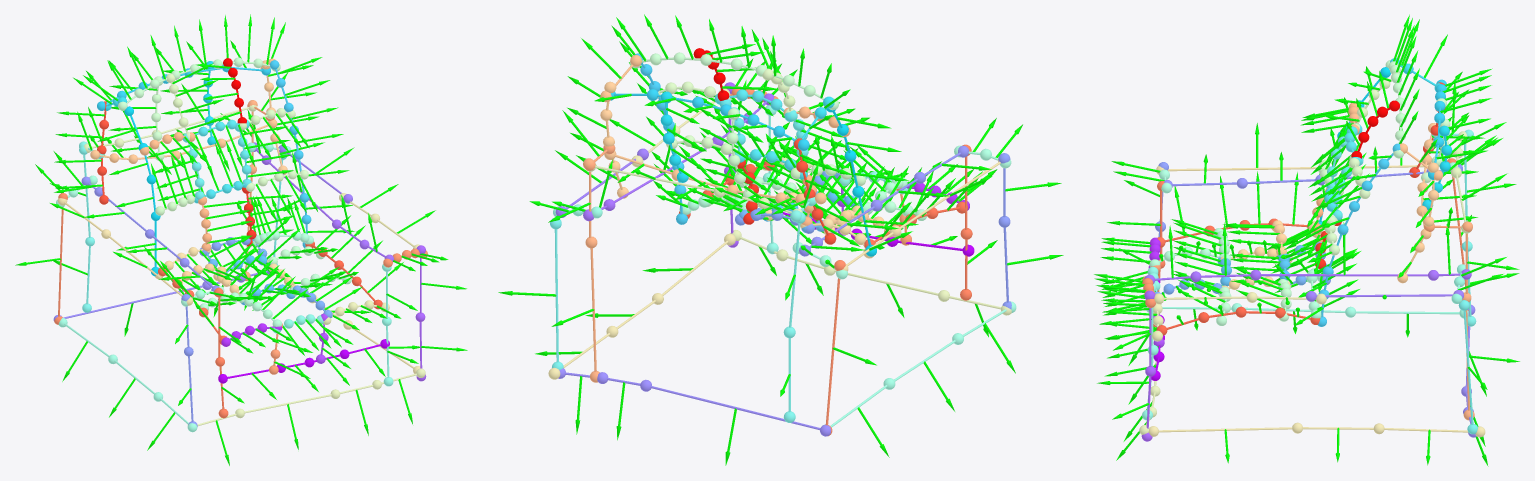
The model's file is author2_sofa.gltf.
3 views of the same model, side by side, from view 1: azimuth 30°, elevation 25°; view 2: azimuth 150°, elevation 25°; view 3: azimuth 270°, elevation 25° (orthographic). The views are drawn at different scales.
Size of the model in its own units: 0.7172 by 0.7549 by 0.7778.
